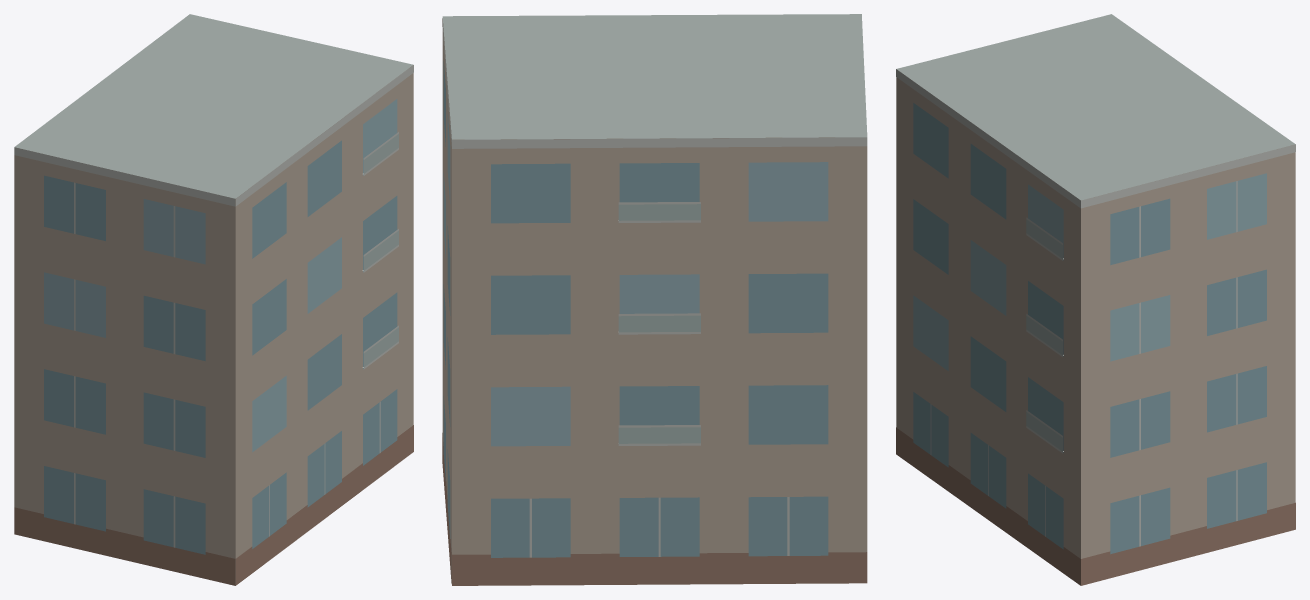
Rendered from survey-upis-32532474.glb.
3 views of the same model, side by side, from view 1: azimuth 30°, elevation 25°; view 2: azimuth 150°, elevation 25°; view 3: azimuth 270°, elevation 25° (orthographic). The views are drawn at different scales.
Visible parts, largest first — view 1: survey-upis-32532474.tmp; view 2: survey-upis-32532474.tmp; view 3: survey-upis-32532474.tmp.
Part boxes in pixels (x1,y1,x2,y2): survey-upis-32532474.tmp: [14, 14, 413, 585]; survey-upis-32532474.tmp: [442, 14, 867, 585]; survey-upis-32532474.tmp: [896, 14, 1295, 585].
Size of the model in its own units: 12.36 by 11.9 by 11.19.
